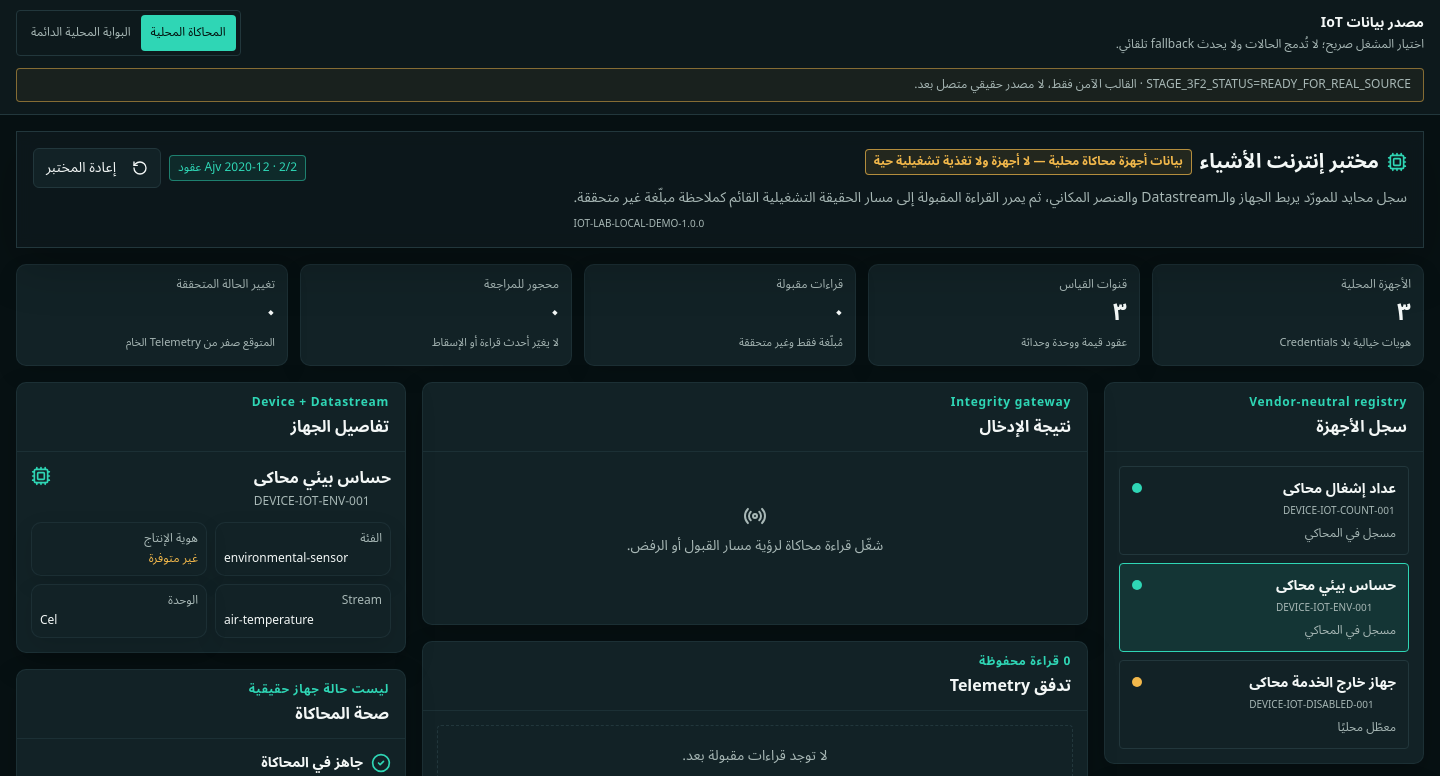
Stage 3F.1 IoT source selection › uses the shared entity selection without mixing the simulator and gateway sources
The image size is (1440, 776).
Expected: the button with test id "iot-device-DEVICE-IOT-ENV-001" is shown, 1119,563 -> 1409,652
What coordinates should you click on to do the following:
click the button with test id "iot-device-DEVICE-IOT-DISABLED-001"
I would click on:
 (1264, 704)
Its box is 1119,660 -> 1409,749.
(page scrolled)
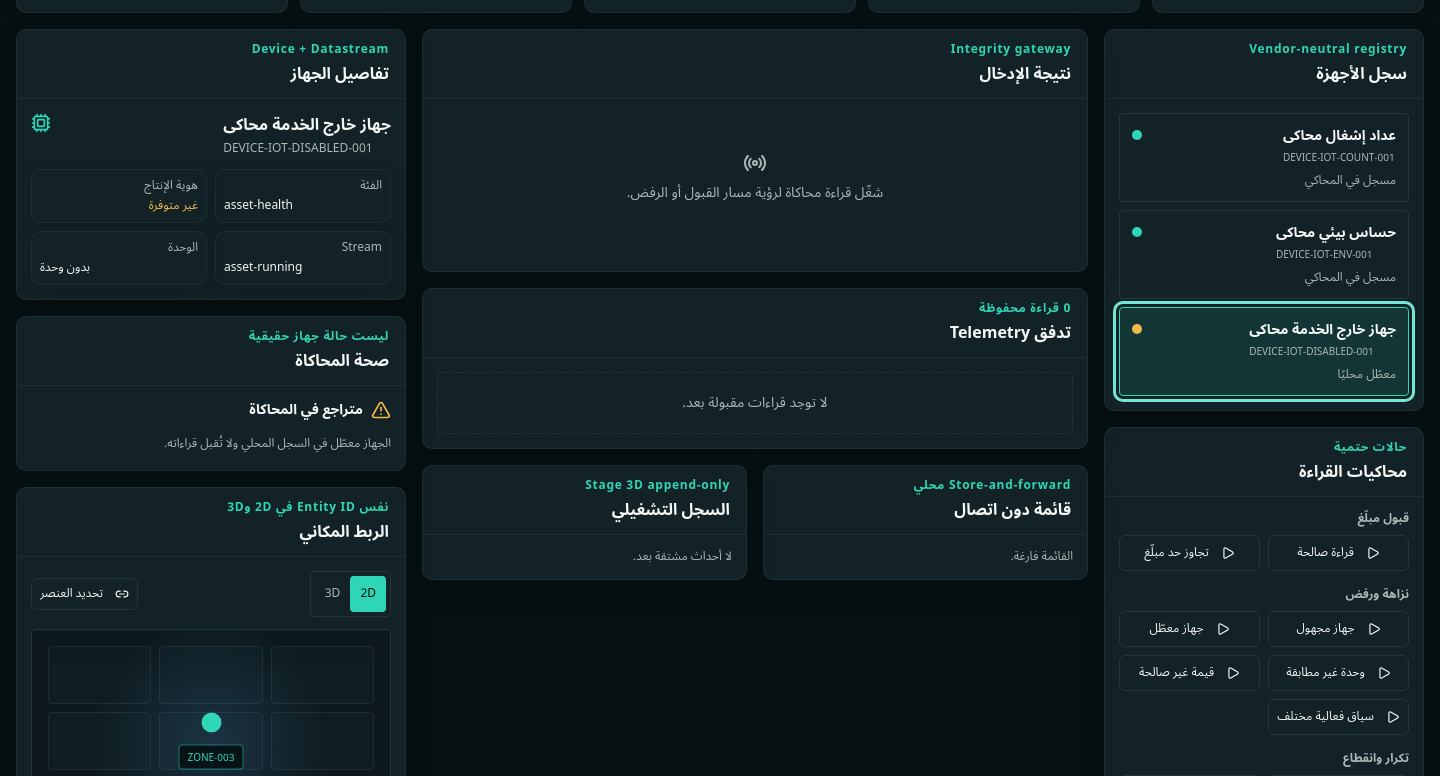
Expected: the text "ZONE-003" is shown, 178,744 -> 244,770
